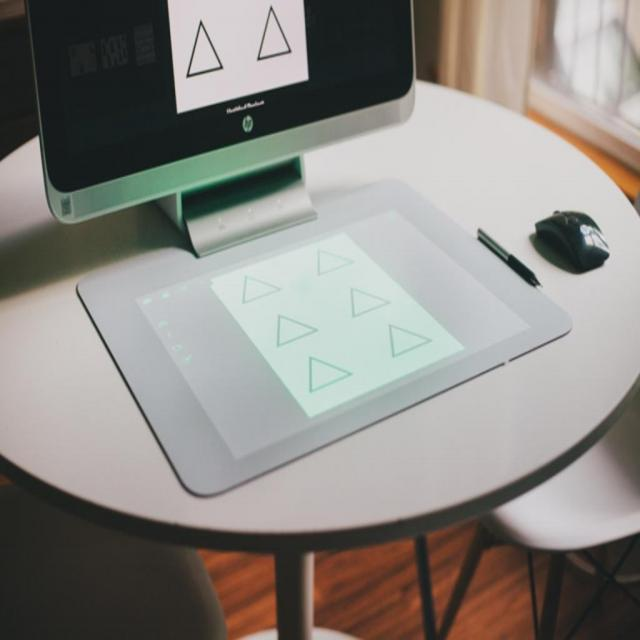Table: (0, 78, 639, 639)
